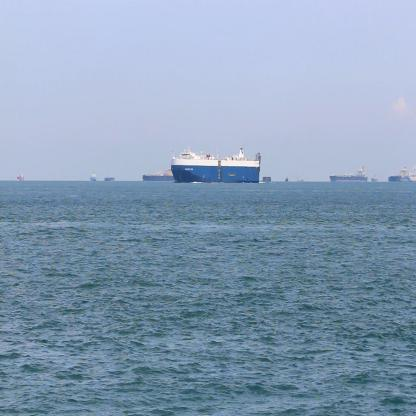Container Ship: (171, 148, 265, 186), (327, 165, 368, 182), (143, 166, 175, 184), (387, 168, 410, 184), (88, 170, 99, 186), (371, 171, 382, 185), (18, 169, 28, 184), (408, 169, 415, 188), (104, 174, 116, 183), (295, 175, 303, 187), (285, 173, 291, 186)
